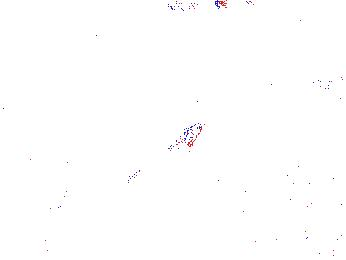glassfish: (105, 120, 209, 201)
red belly glassfish: (318, 73, 345, 91)
redtail glassfish: (163, 1, 243, 13)
